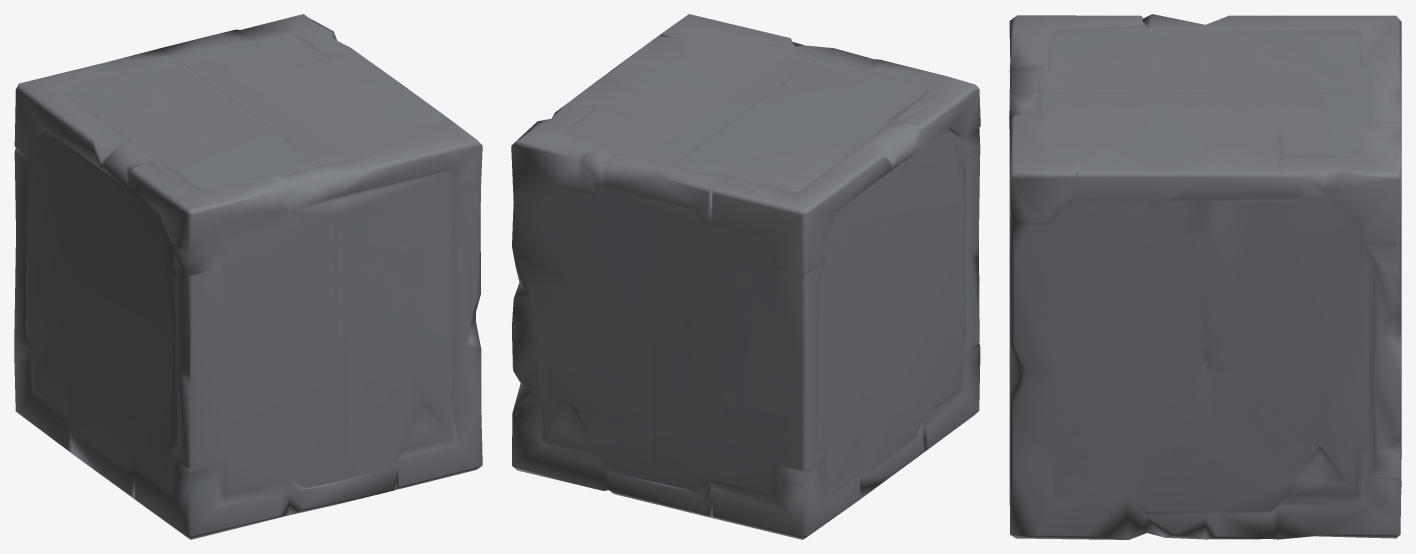
3 renders of one model, left to right at view 1: azimuth 30°, elevation 25°; view 2: azimuth 150°, elevation 25°; view 3: azimuth 270°, elevation 25°, orthographic. The views are drawn at different scales.
Visible parts, largest first — view 1: tripo_node_fda4b624; view 2: tripo_node_fda4b624; view 3: tripo_node_fda4b624.
Boxes of the visible parts, x1,y1,x2,y2 form: tripo_node_fda4b624: [14, 14, 482, 539]; tripo_node_fda4b624: [511, 14, 980, 539]; tripo_node_fda4b624: [1009, 14, 1401, 539].
Bounding box in the file's own units: 0.9324 × 1 × 0.9653.
Materials: 1 (1 with a texture image).
